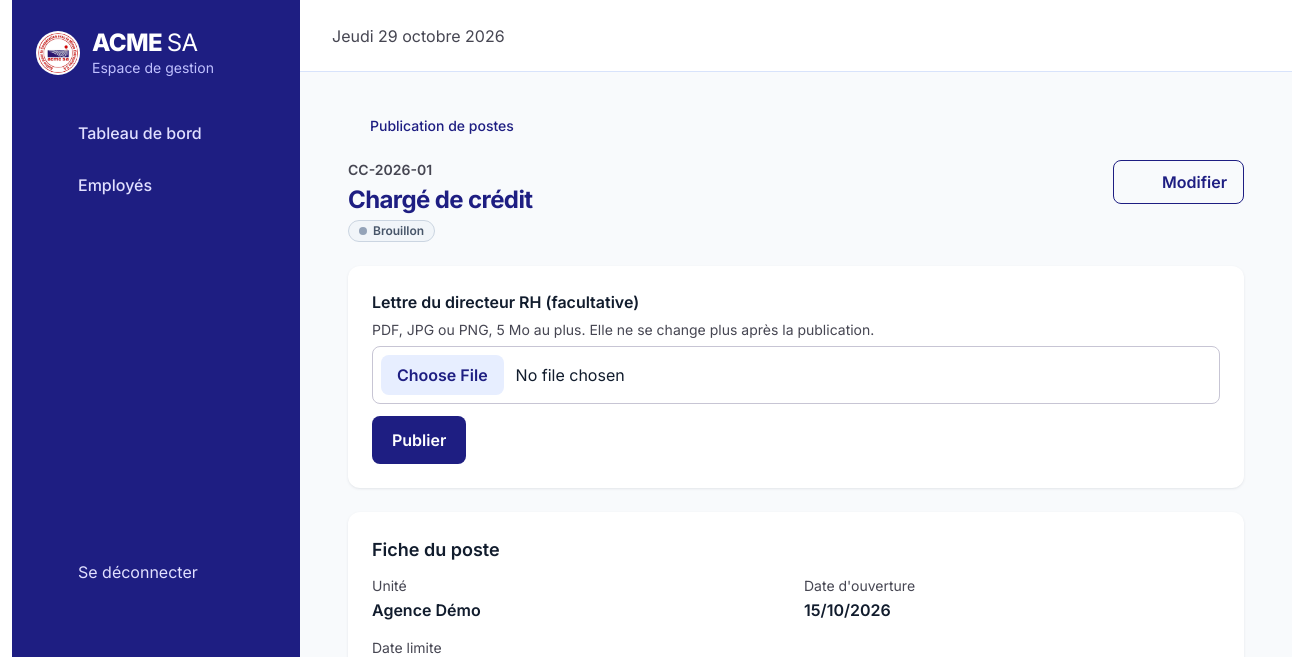
US-802 CA-02 — statuts, date et auteur › l'Administrateur publie un brouillon, puis peut le clôturer ou le marquer pourvu
Click the button "Publier" at (419, 440), box [372, 416, 466, 464]
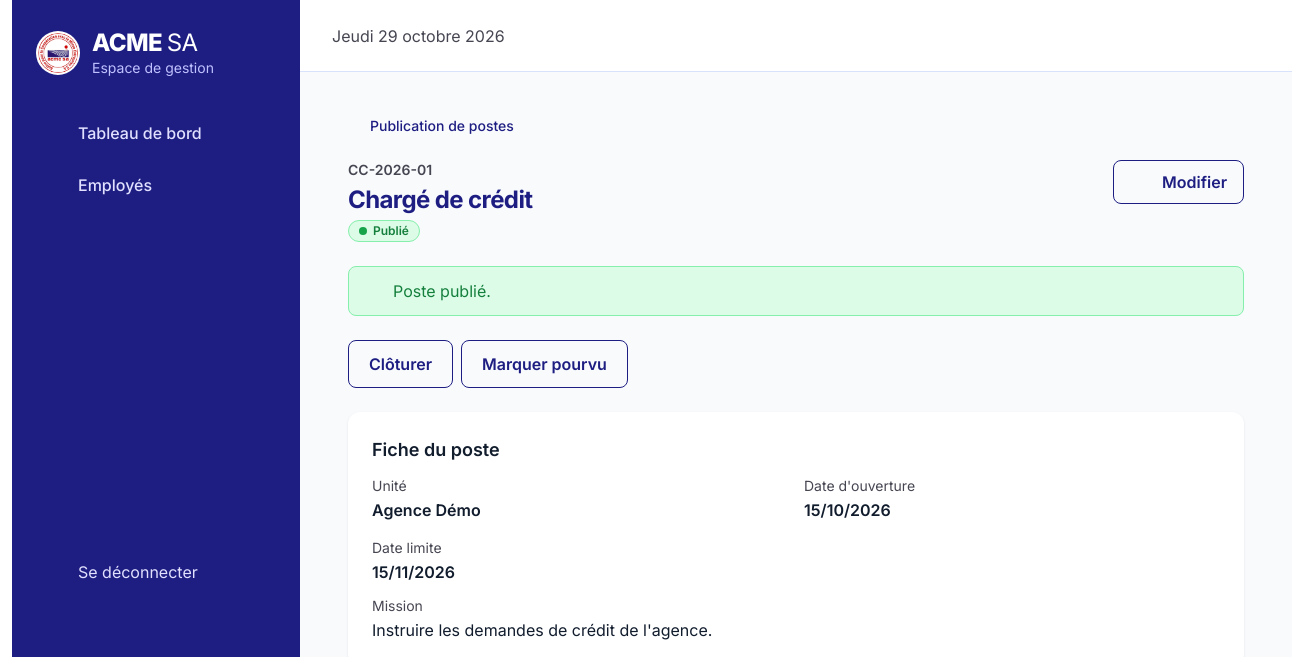
Check: the button "Clôturer" is shown, box [348, 340, 453, 388]
Check: the button "Marquer pourvu" is shown, box [461, 340, 628, 388]
Check: the message reads "Poste publié.", box [393, 281, 491, 301]
